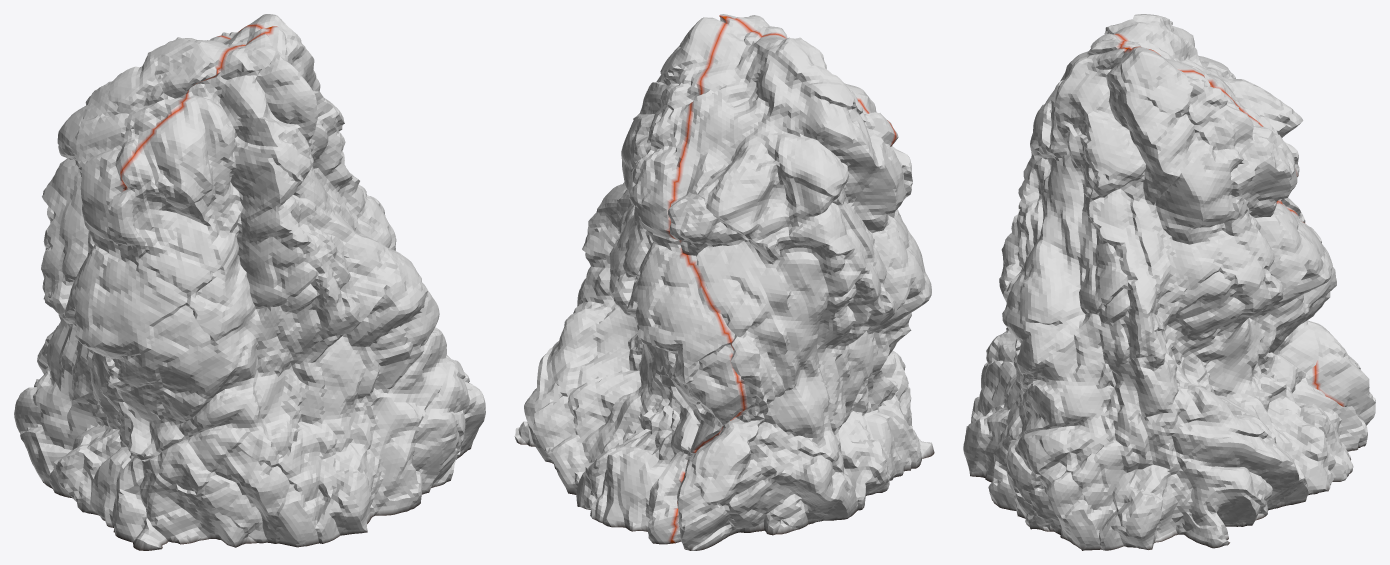
3 views of the same model, side by side, from view 1: azimuth 30°, elevation 25°; view 2: azimuth 150°, elevation 25°; view 3: azimuth 270°, elevation 25° (orthographic). The views are drawn at different scales.
Parts seen in each view (by area): view 1: RC1; view 2: RC1; view 3: RC1.
Part boxes in pixels (x1,y1,x2,y2): RC1: [14, 14, 485, 550]; RC1: [514, 14, 934, 550]; RC1: [963, 14, 1375, 550].
Size of the model in its own units: 740 by 815 by 719.
